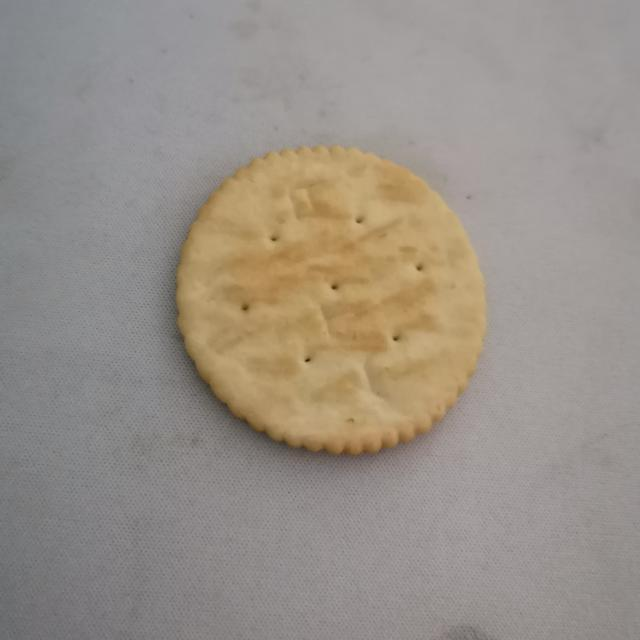Intact: (162, 136, 498, 466)
